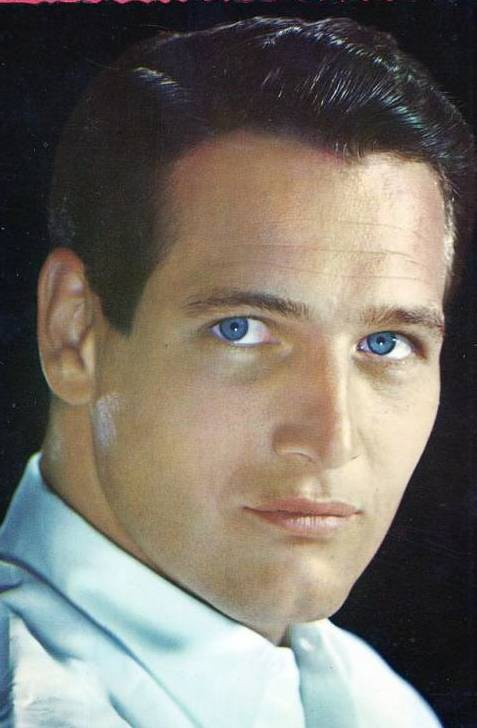bad: (118, 204, 477, 590)
